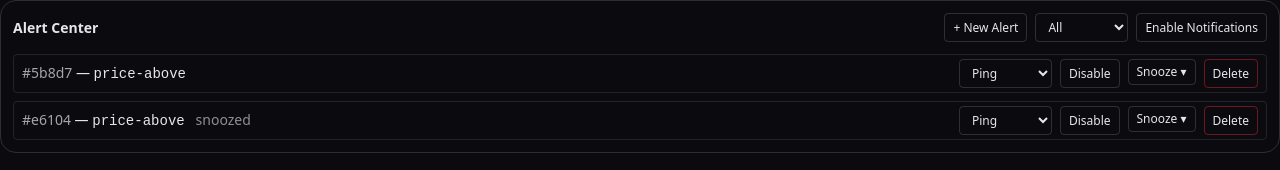
Test: AlertsPanel › filter functionality › should filter to snoozed alerts only
This screenshot has width=1280, height=170.
Select "Snoozed" in the dropdown showing "All" in the row of "Alert Center" at (1082, 28), box top-left (1035, 13), bottom-right (1128, 42)
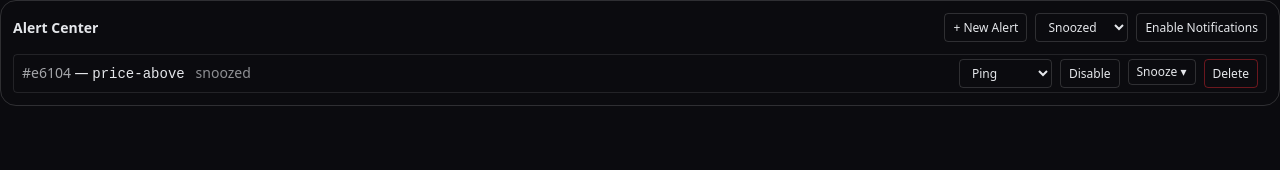
Check: the text "#e6104" is shown once, box top-left (22, 63), bottom-right (71, 82)
